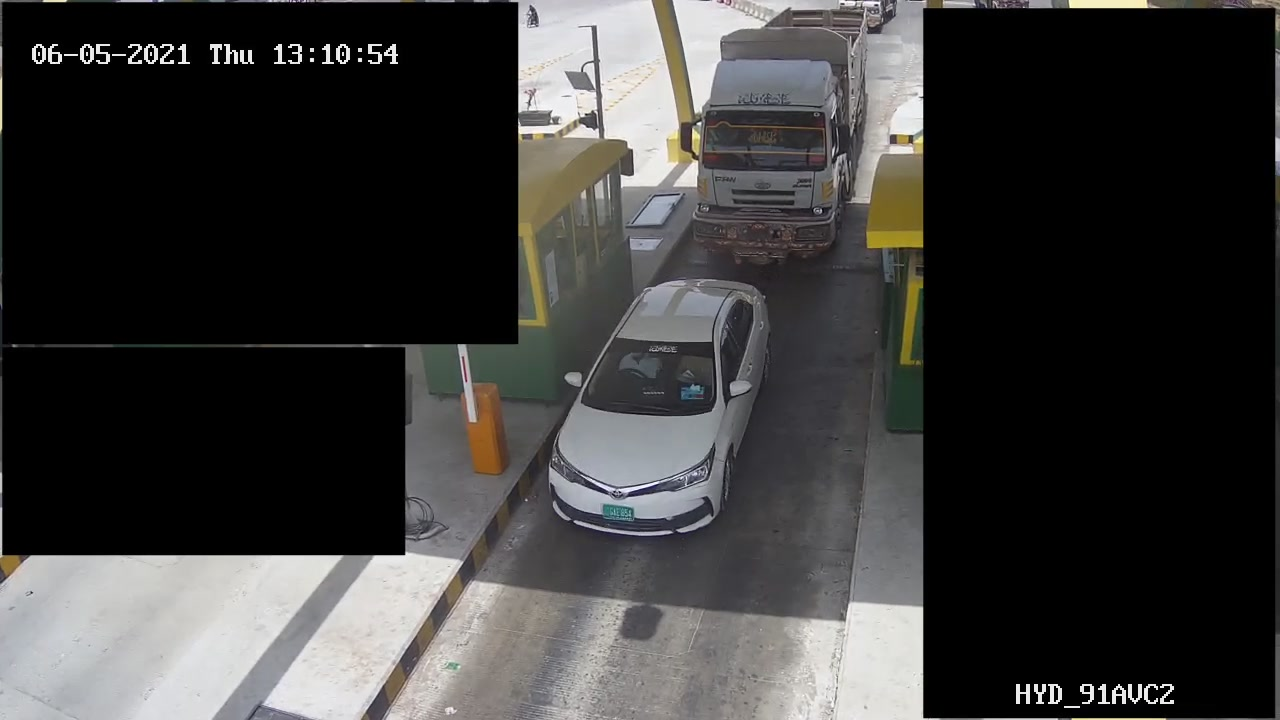F1: (544, 270, 775, 545)
F5: (689, 4, 871, 261)
